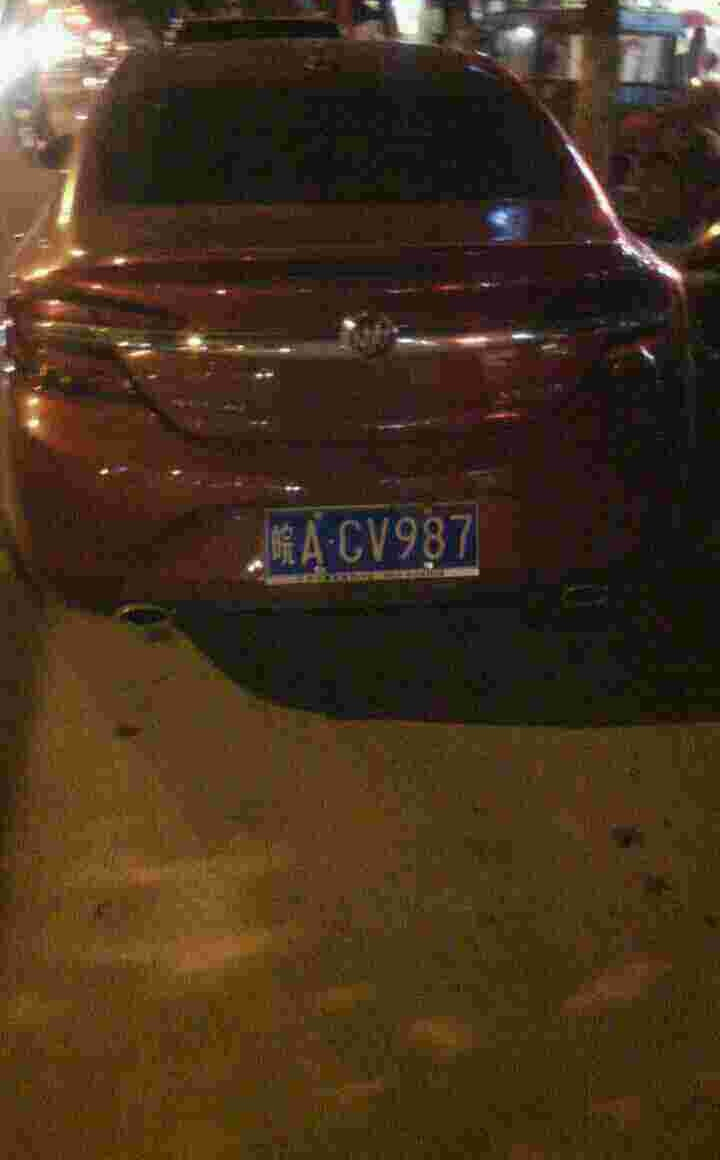license_plate: (254, 510, 484, 584)
